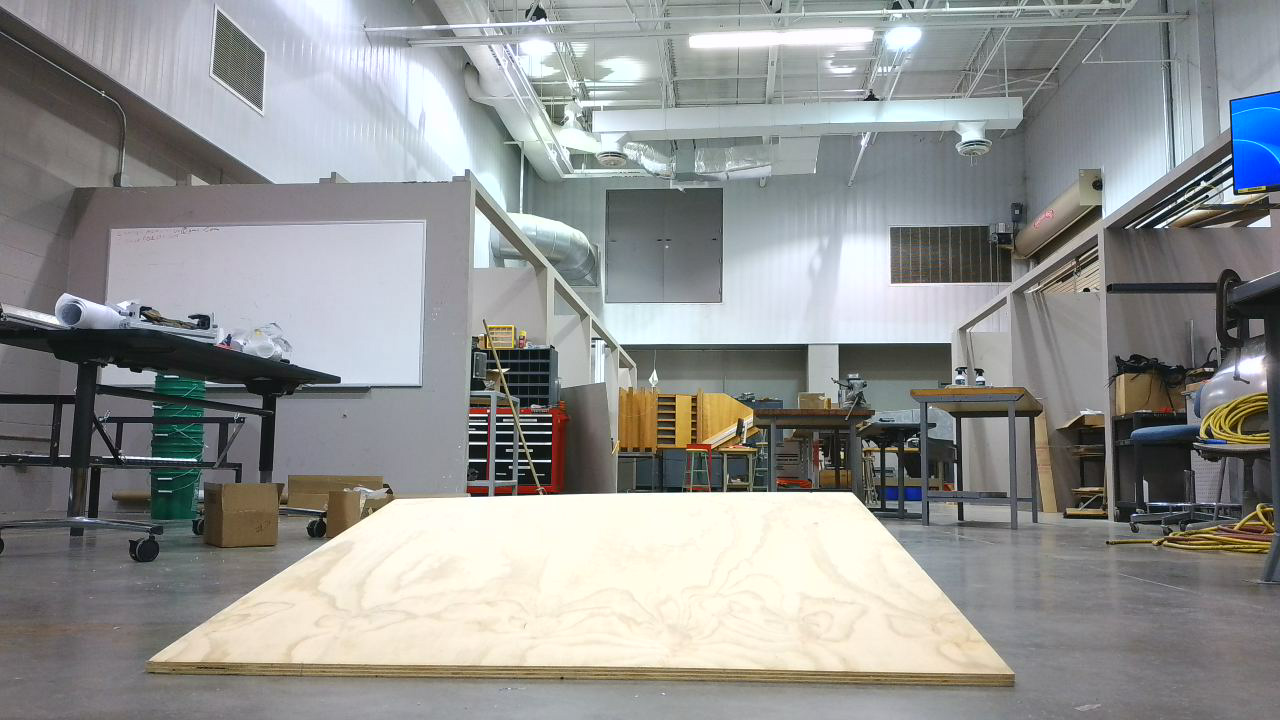ramp: (146, 494, 1031, 695)
